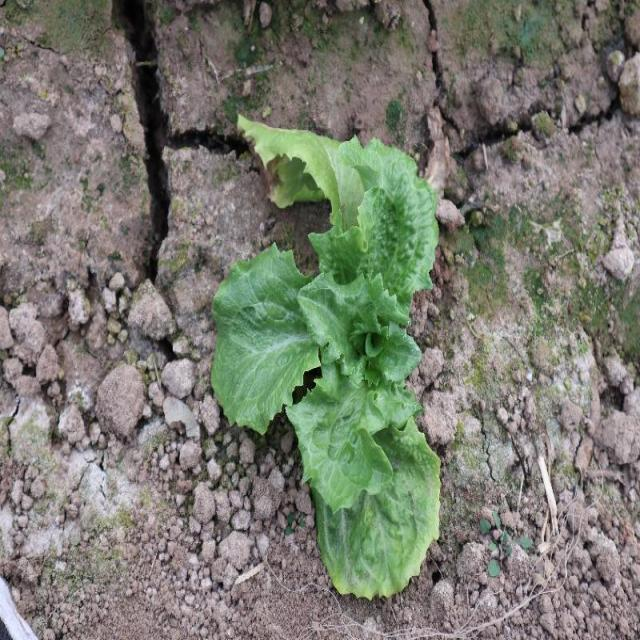crop: (210, 110, 443, 602)
